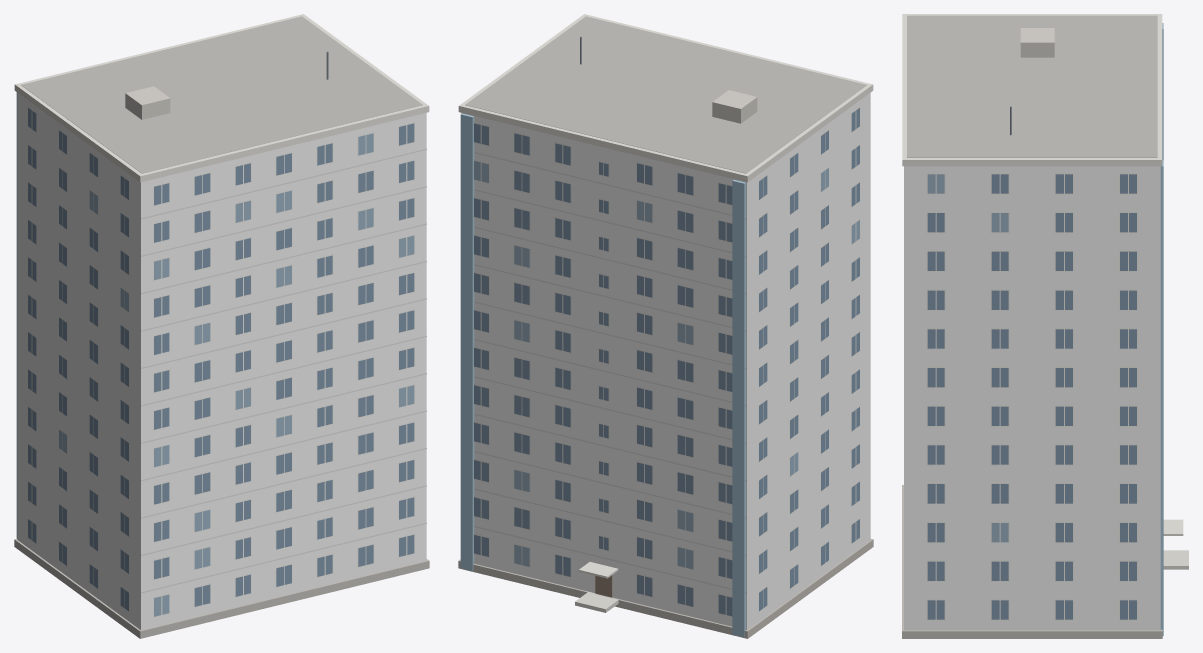
File: tower_12.glb
3 views of the same model, side by side, from view 1: azimuth 30°, elevation 25°; view 2: azimuth 150°, elevation 25°; view 3: azimuth 270°, elevation 25° (orthographic). The views are drawn at different scales.
Parts seen in each view (by area): view 1: Tower12; view 2: Tower12; view 3: Tower12.
Boxes of the visible parts, <box> form: Tower12: <box>14,14,429,638</box>; Tower12: <box>458,14,873,638</box>; Tower12: <box>902,14,1188,638</box>.
Bounding box in the file's own units: 24.3 × 39.3 × 20.15.
